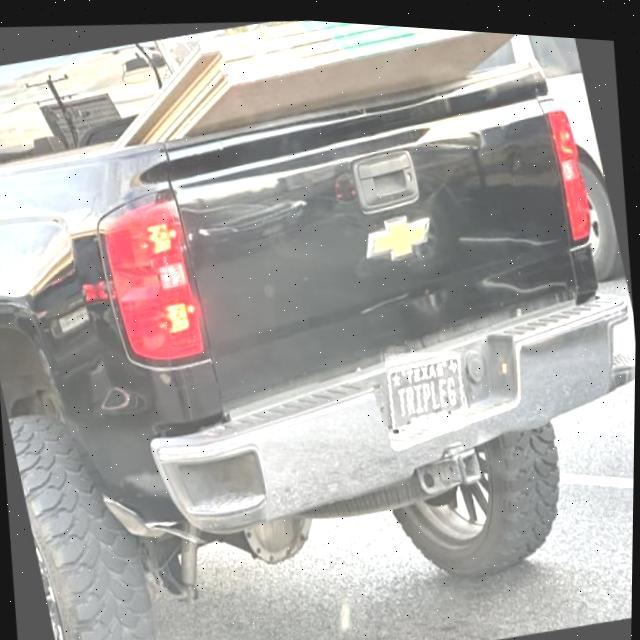LicensePlate: (387, 345, 465, 423)
